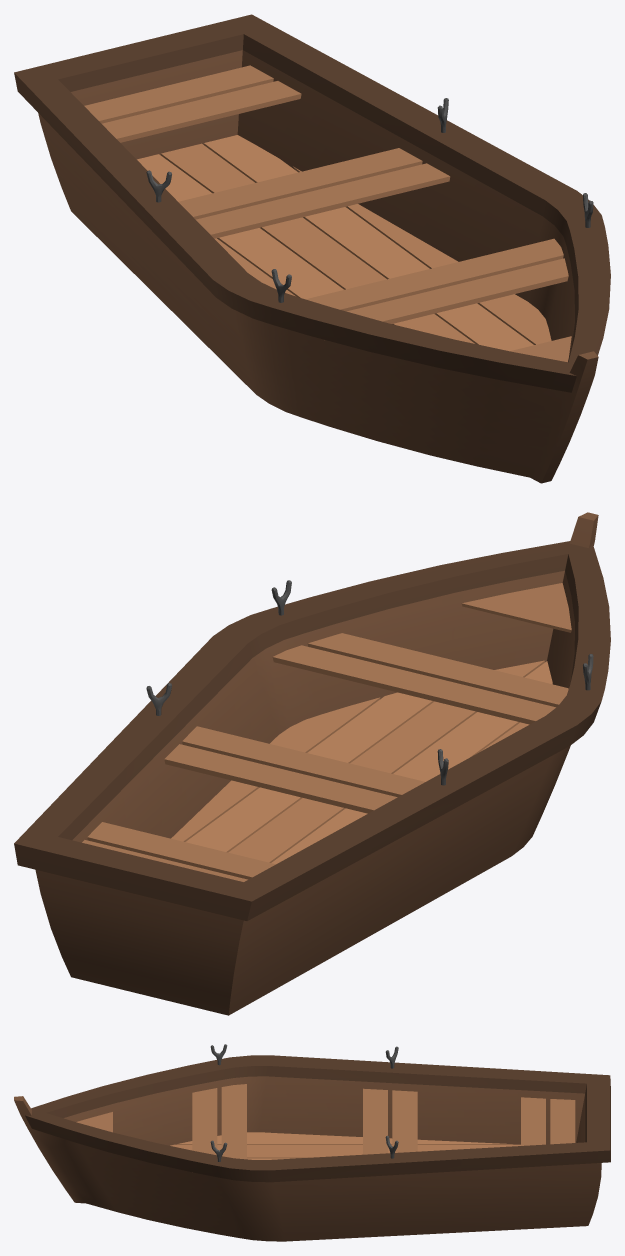
File: Boat_01.fbx
3 renders of one model, top to bottom at view 1: azimuth 30°, elevation 25°; view 2: azimuth 150°, elevation 25°; view 3: azimuth 270°, elevation 25°, orthographic. The views are drawn at different scales.
Visible parts, largest first — view 1: Boat_01_LOD0; view 2: Boat_01_LOD0; view 3: Boat_01_LOD0.
Boxes of the visible parts, x1,y1,x2,y2 form: Boat_01_LOD0: [14, 14, 610, 483]; Boat_01_LOD0: [14, 512, 610, 1015]; Boat_01_LOD0: [14, 1044, 610, 1241].
Size of what is drawn, in the model's own units: 1.41 by 0.6156 by 3.08.
